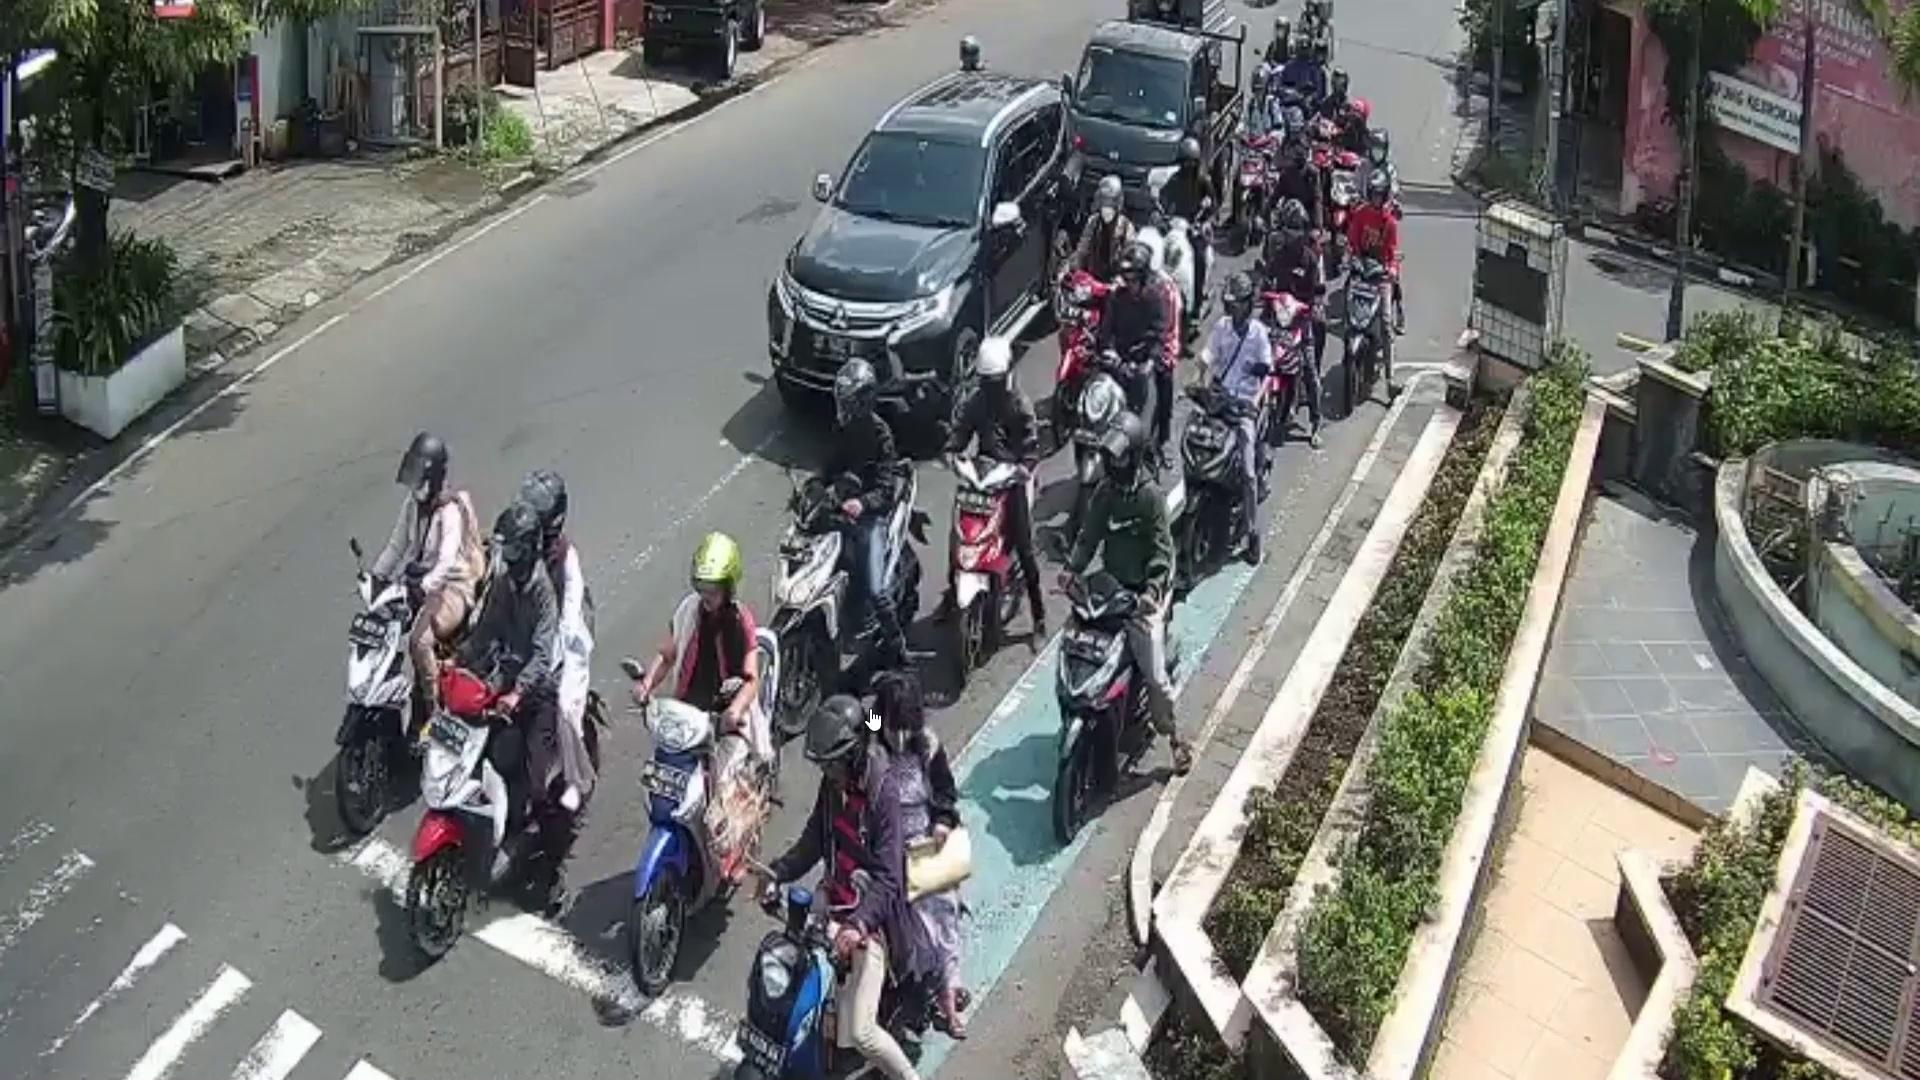car: (767, 71, 1084, 427), (1069, 18, 1244, 233)
motorbike: (632, 624, 781, 988), (407, 663, 529, 965), (773, 456, 927, 671), (1048, 570, 1137, 844), (331, 572, 422, 836), (735, 884, 837, 1080), (944, 450, 1017, 687), (1187, 385, 1241, 580), (1341, 253, 1396, 406)
